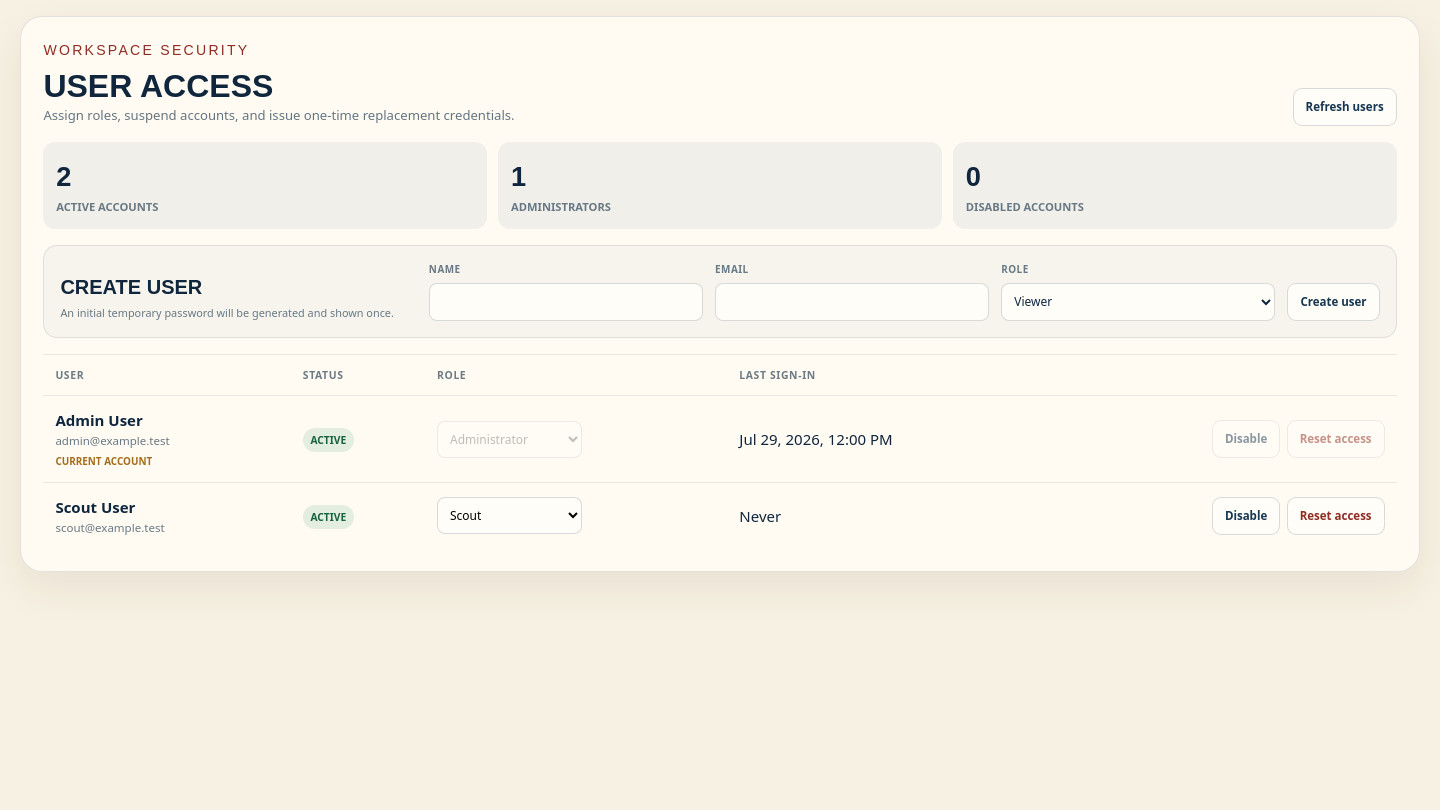
Test case: AdminUserManagement › lists users and supports role and account-status changes
Select "Analyst" in the dropdown named "Role for Scout User" at {"x": 510, "y": 516}, box [437,497,582,534]
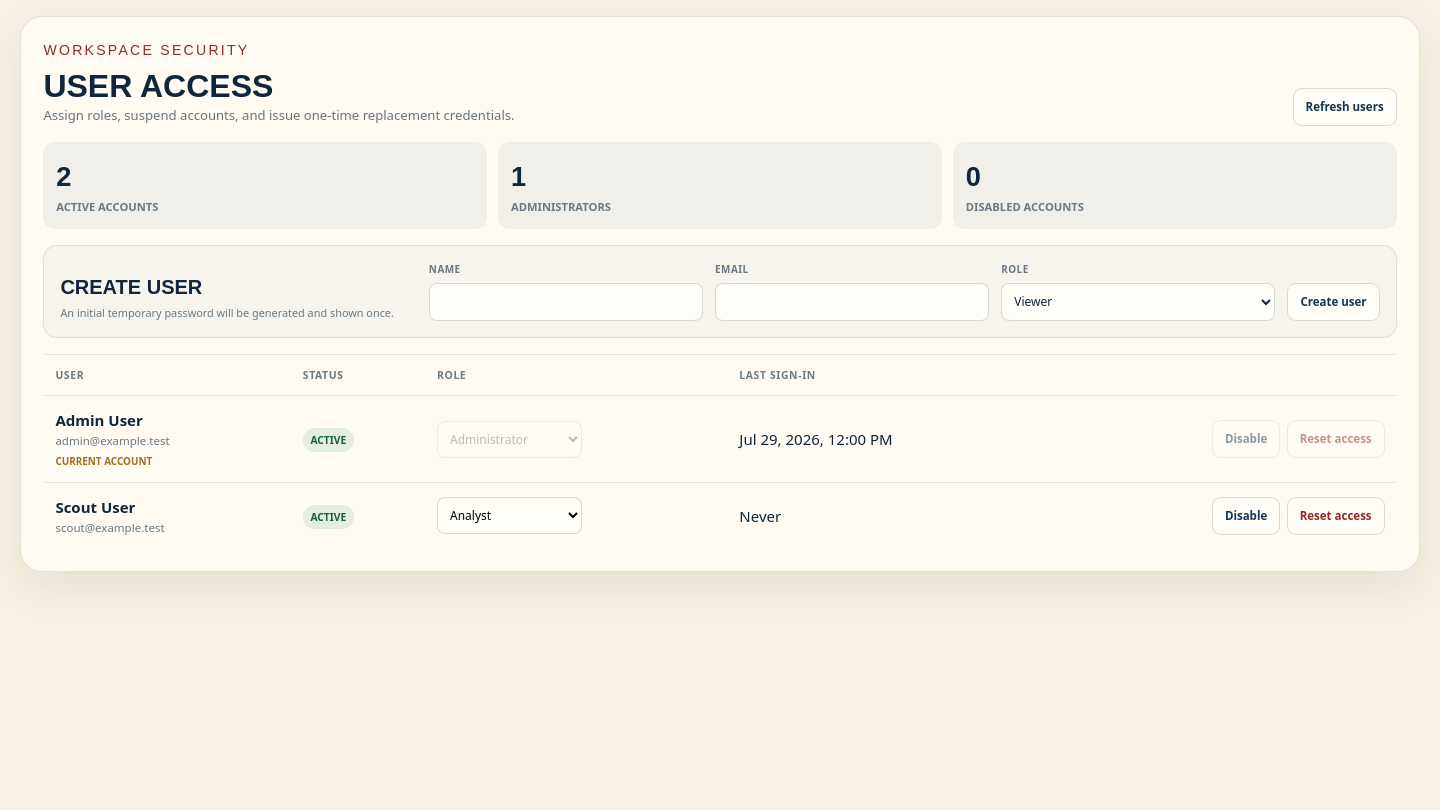
Click the button "Disable" in the row of "Scout User" at {"x": 1246, "y": 516}, box [1212,497,1280,535]
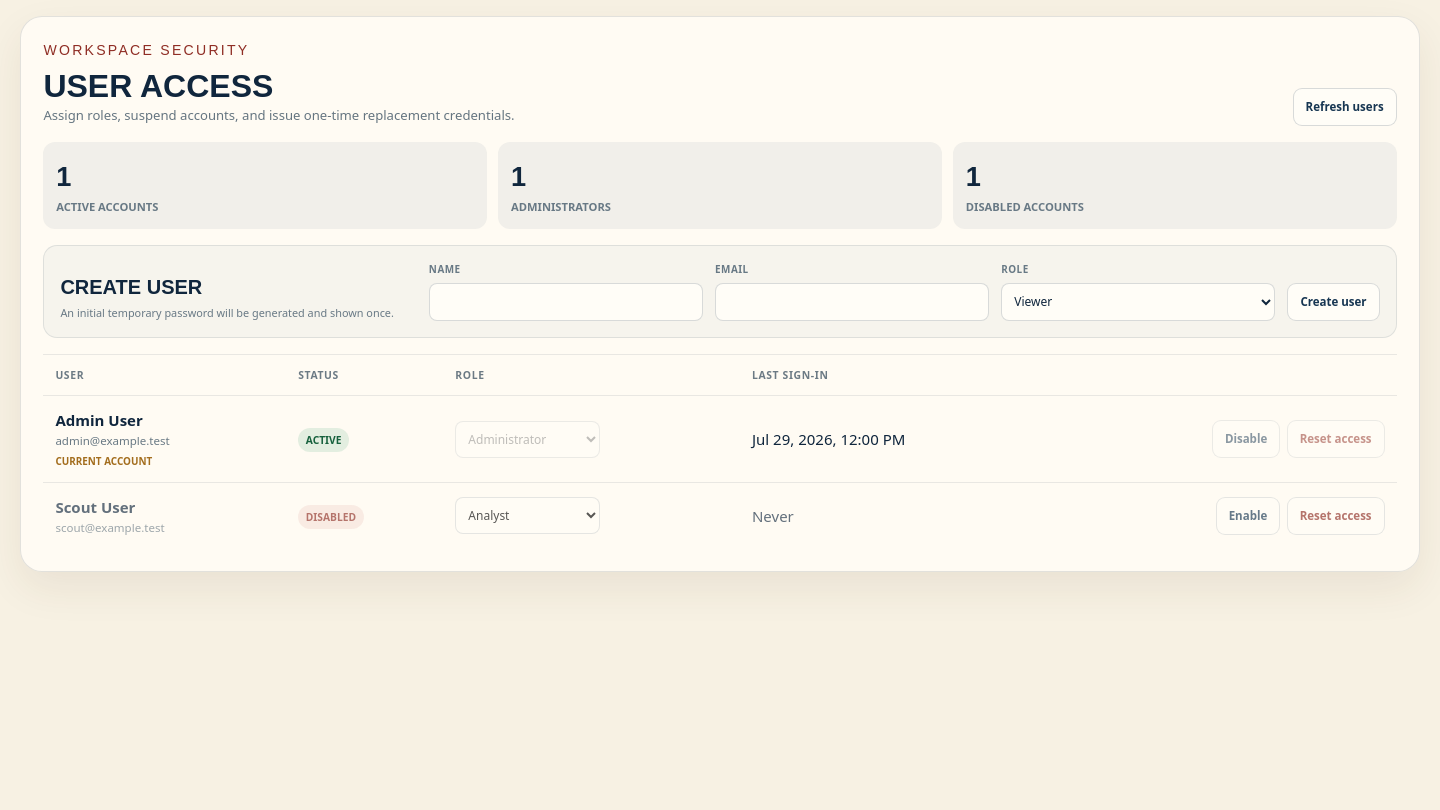
Result: the row with test id "admin-user-2" shows "Disabled" at [306,510,356,524]
